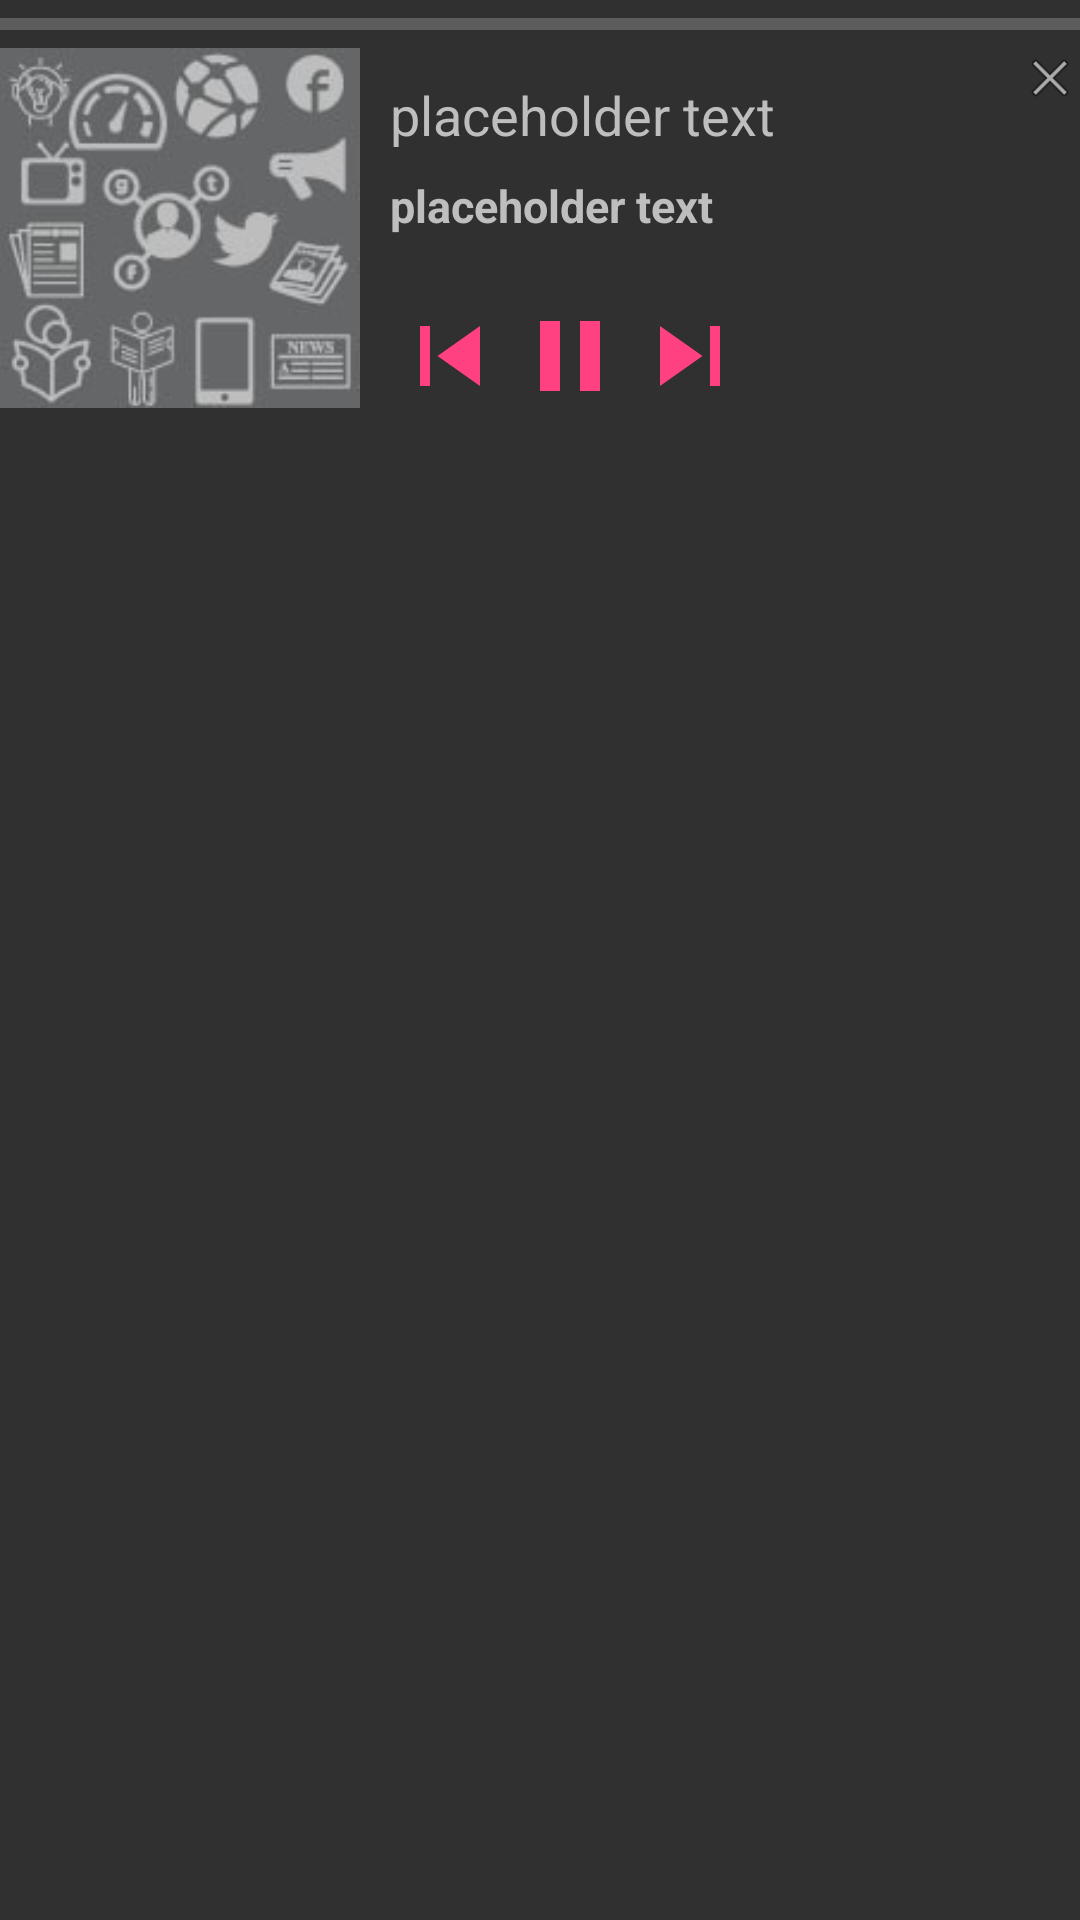

Where to tap for icons on this 1080*1920 app screen, as (x=x, y=y):
close clear cancel: (x=1050, y=78)
pause: (x=570, y=356)
skip next: (x=690, y=356)
skip previous: (x=450, y=356)
